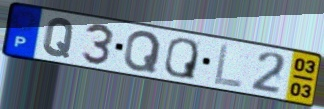2: (250, 51, 288, 94)
3: (78, 22, 115, 67)
L: (212, 42, 244, 90)
Q: (121, 29, 163, 74), (162, 36, 200, 82), (41, 17, 77, 60)
